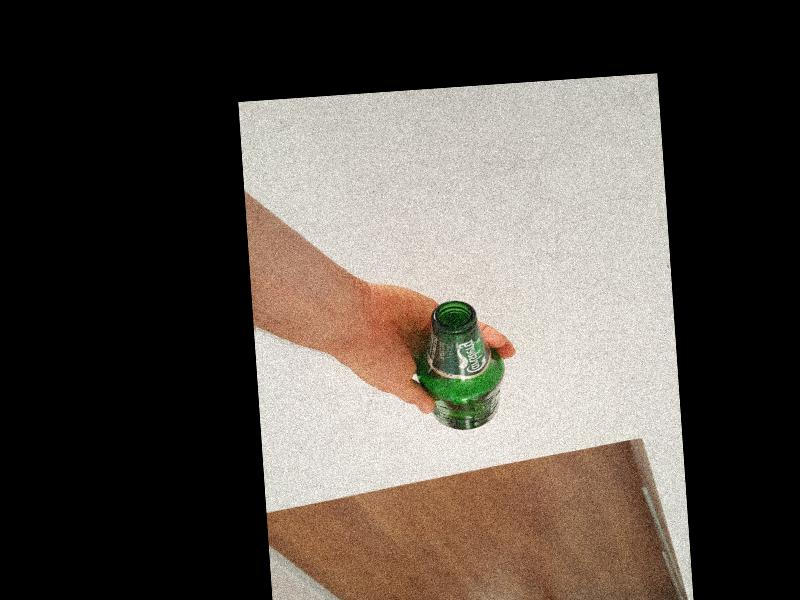Beer: (413, 297, 507, 433)
